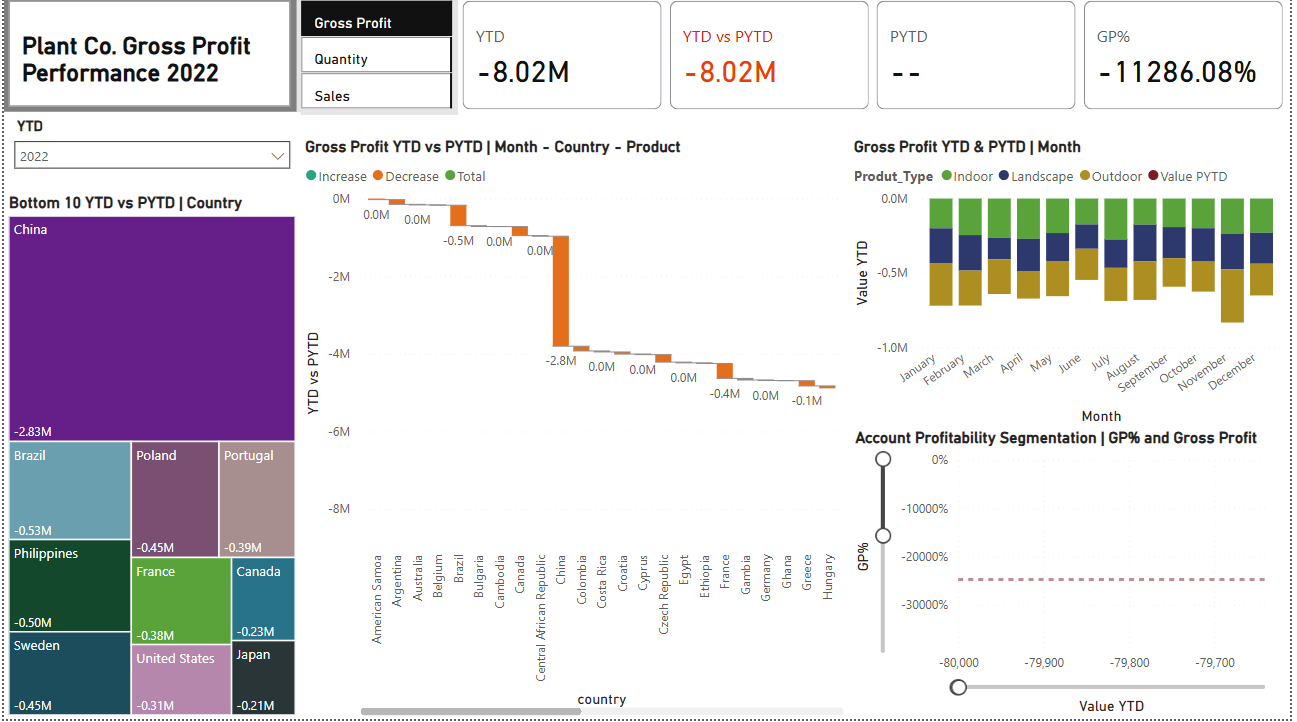

The page's visual inventory and layout, read from the dashboard file:
{"tool":"powerbi","page":{"name":"Page 1","canvas":[1280,720],"ordinal":0},"visuals":[{"type":"cardVisual","fields":{"Data":["_Measures.S_YTD","_Measures.YTD vs PYTD","_Measures.S_PYTD","_Measures.GP%"]},"box":[451.5,0,828.8,118],"z":0},{"type":"advancedSlicerVisual","fields":{"Values":["Slc_Values.Values"]},"box":[290.9,0,160.5,118],"z":1},{"type":"slicer","fields":{"Values":["Dim_Date.Date.Variation.Date Hierarchy.Year"]},"box":[0,115.3,295,81],"z":3},{"type":"treemap","title":"Bottom 10 YTD vs PYTD | Country","fields":{"Group":["Dim_Account.country"],"Values":["_Measures.YTD vs PYTD"]},"box":[0,196.2,295,524.2],"z":4},{"type":"waterfallChart","fields":{"Y":["_Measures.YTD vs PYTD"],"Category":["Dim_Date.Date.Variation.Date Hierarchy.Month","Dim_Account.country","Dim_Product.Produt_Type","Dim_Product.Product_Name"]},"box":[295,140,546.1,580.4],"z":5},{"type":"lineStackedColumnComboChart","fields":{"Y":["_Measures.S_YTD"],"Y2":["_Measures.S_PYTD"],"Category":["Dim_Date.Date.Variation.Date Hierarchy.Quarter","Dim_Date.Date.Variation.Date Hierarchy.Month"],"Series":["Dim_Product.Produt_Type"]},"box":[841.2,140,439.1,290.9],"z":6},{"type":"scatterChart","fields":{"Y":["_Measures.GP%"],"X":["_Measures.S_YTD"],"Category":["Dim_Account.Account"]},"box":[842,431,438,289],"z":7},{"type":"cardVisual","fields":{"Data":["_Measures._Report title"]},"box":[0,0,290.9,115.3],"z":8}]}

Visuals, with their boxes in screenshot pixels (x1, y1, x2, y2), scaled from the page's 1280x720 canvas onto the 1297x722 screenshot:
cardVisual - _Measures.S_YTD x _Measures.YTD vs PYTD: (left=457, top=0, right=1296, bottom=118)
advancedSlicerVisual - Slc_Values.Values: (left=295, top=0, right=457, bottom=118)
slicer - Dim_Date.Date.Variation.Date Hierarchy.Year: (left=0, top=116, right=299, bottom=197)
"Bottom 10 YTD vs PYTD | Country" treemap: (left=0, top=197, right=299, bottom=721)
waterfallChart - _Measures.YTD vs PYTD x Dim_Date.Date.Variation.Date Hierarchy.Month: (left=299, top=140, right=852, bottom=721)
lineStackedColumnComboChart - _Measures.S_YTD x _Measures.S_PYTD: (left=852, top=140, right=1296, bottom=432)
scatterChart - _Measures.GP% x _Measures.S_YTD: (left=853, top=432, right=1296, bottom=721)
cardVisual - _Measures._Report title: (left=0, top=0, right=295, bottom=116)
